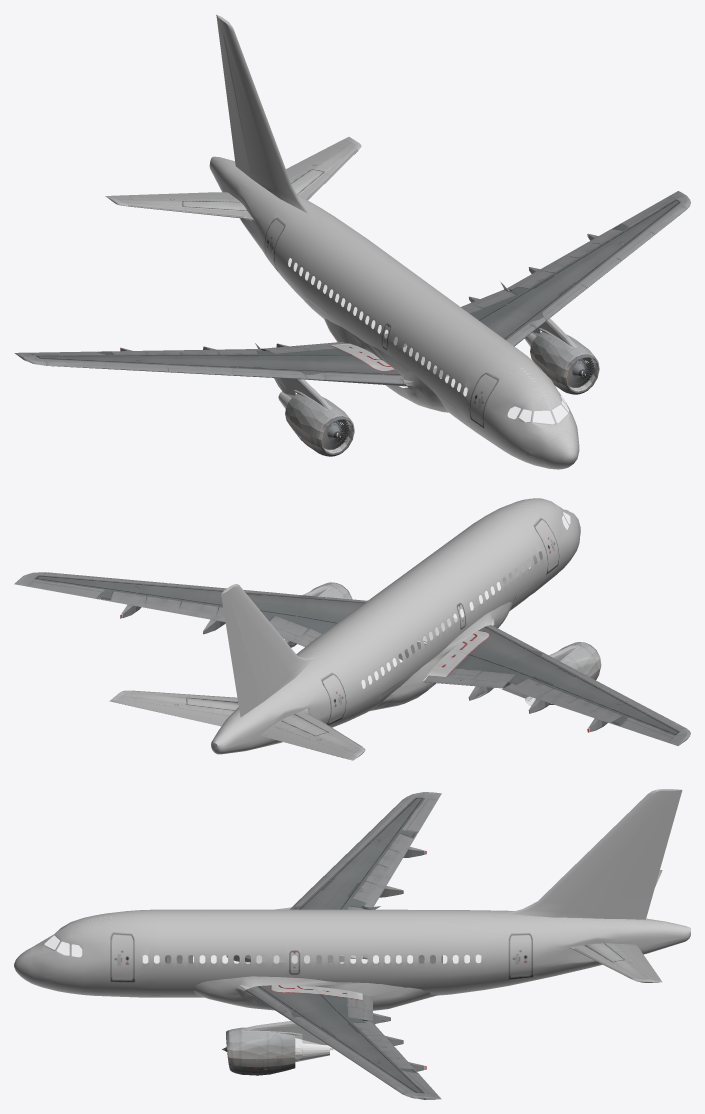
3 views of the same model, one above another, from view 1: azimuth 30°, elevation 25°; view 2: azimuth 150°, elevation 25°; view 3: azimuth 270°, elevation 25° (orthographic). The views are drawn at different scales.
Parts seen in each view (by area): view 1: Fuselage.001, Wings.001, Vstab.001, Hstabs.001, Belly.001, Rudder, Intake.001, Intake, Nacelle.001, Nacelle, Pylon.001, DoorR1; view 2: Fuselage.001, Wings.001, Vstab.001, Hstabs.001, Rudder, Belly.001, ElevatorL, ElevatorR, FlapR1, DoorR3, FlapR2, Windows (+6 smaller); view 3: Fuselage.001, Wings.001, Vstab.001, Belly.001, Rudder, Hstabs.001, Nacelle, EngineL, Windows, DoorL1, DoorL3, Pylon (+3 smaller).
Part boxes in pixels (x1,y1,x2,y2): Fuselage.001: (209, 156, 579, 469); Wings.001: (33, 198, 686, 386); Vstab.001: (216, 14, 309, 213); Hstabs.001: (109, 139, 361, 221); Belly.001: (326, 319, 448, 412); Rudder: (218, 30, 251, 174); Intake.001: (310, 408, 354, 456); Intake: (555, 346, 599, 394); Nacelle.001: (295, 398, 343, 452); Nacelle: (540, 336, 588, 389); Pylon.001: (255, 343, 333, 410); DoorR1: (471, 373, 498, 424); Fuselage.001: (211, 498, 580, 754); Wings.001: (33, 572, 685, 738); Vstab.001: (221, 584, 314, 706); Hstabs.001: (114, 690, 365, 757); Rudder: (223, 602, 263, 717); Belly.001: (369, 602, 512, 711); ElevatorL: (109, 697, 228, 726); ElevatorR: (261, 726, 356, 760); FlapR1: (423, 674, 512, 688); DoorR3: (322, 673, 345, 723); FlapR2: (507, 682, 620, 726); Windows: (362, 551, 542, 688); Fuselage.001: (14, 909, 690, 997); Wings.001: (245, 797, 429, 1093); Vstab.001: (506, 789, 682, 918); Belly.001: (193, 976, 437, 1010); Rudder: (609, 803, 678, 919); Hstabs.001: (569, 943, 655, 982); Nacelle: (242, 1027, 269, 1075); EngineL: (270, 1031, 302, 1074); Windows: (143, 955, 480, 962); DoorL1: (111, 932, 133, 979); DoorL3: (510, 932, 531, 976); Pylon: (240, 1019, 384, 1045).
Size of the model in its own units: 33.91 by 11.72 by 31.71.
Materials: 27 (6 with a texture image).
